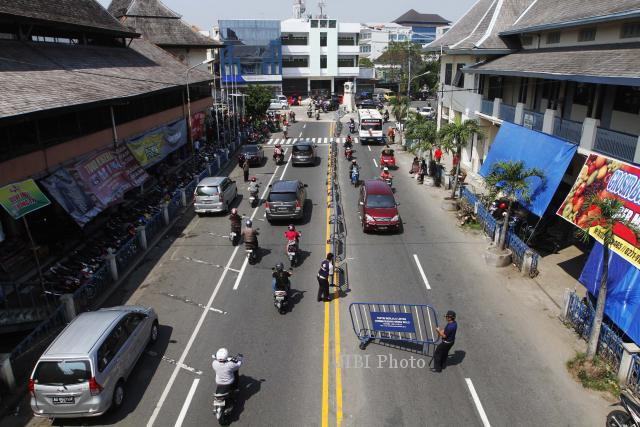car: (31, 305, 159, 413), (360, 179, 402, 239), (193, 177, 238, 218), (268, 180, 307, 224), (357, 106, 387, 146), (291, 140, 318, 168), (238, 144, 265, 168)
motorbike: (210, 348, 246, 427), (270, 261, 294, 315), (243, 220, 260, 265), (283, 223, 301, 265), (229, 208, 243, 245), (247, 179, 260, 210), (381, 169, 393, 194), (348, 160, 359, 187), (343, 134, 354, 159), (272, 143, 283, 166)
